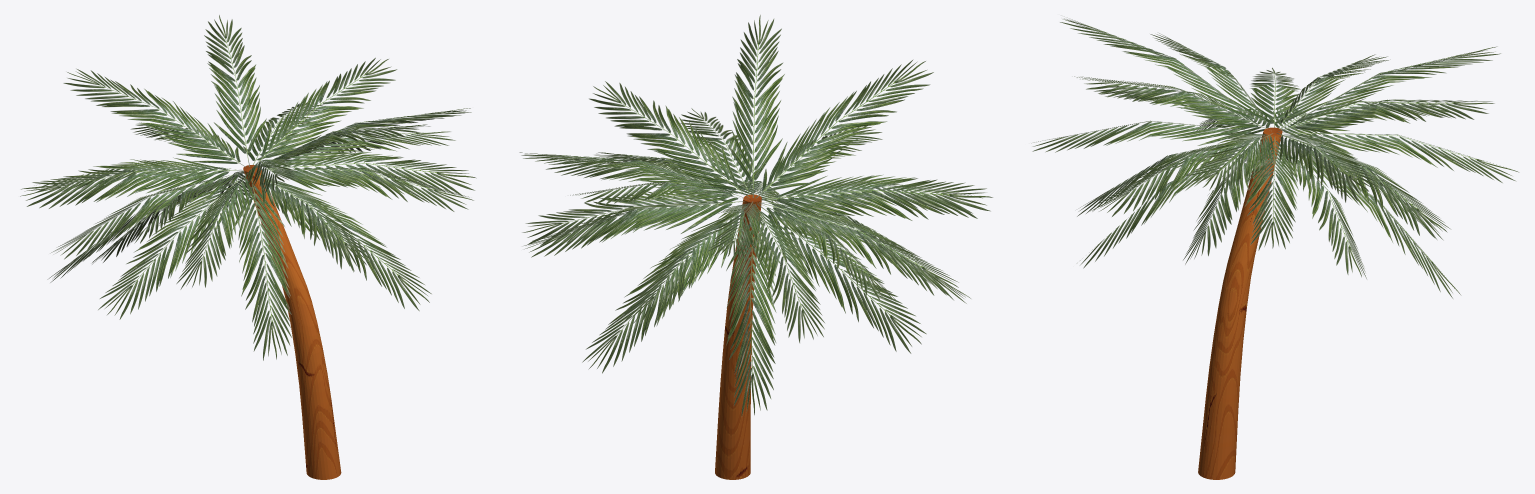
File: palm 2.glb
The picture shows the model from 3 angles, left to right: view 1: azimuth 30°, elevation 25°; view 2: azimuth 150°, elevation 25°; view 3: azimuth 270°, elevation 25°; orthographic projection. The views are drawn at different scales.
Visible parts, largest first — view 1: Cylinder.009; view 2: Cylinder.009; view 3: Cylinder.009.
Part boxes in pixels (x1,y1,x2,y2): Cylinder.009: (20,14,476,479); Cylinder.009: (519,14,992,479); Cylinder.009: (1031,16,1519,479).
Bounding box in the file's own units: 7.99 × 7.35 × 7.99.
Materials: 2 (2 with a texture image).
